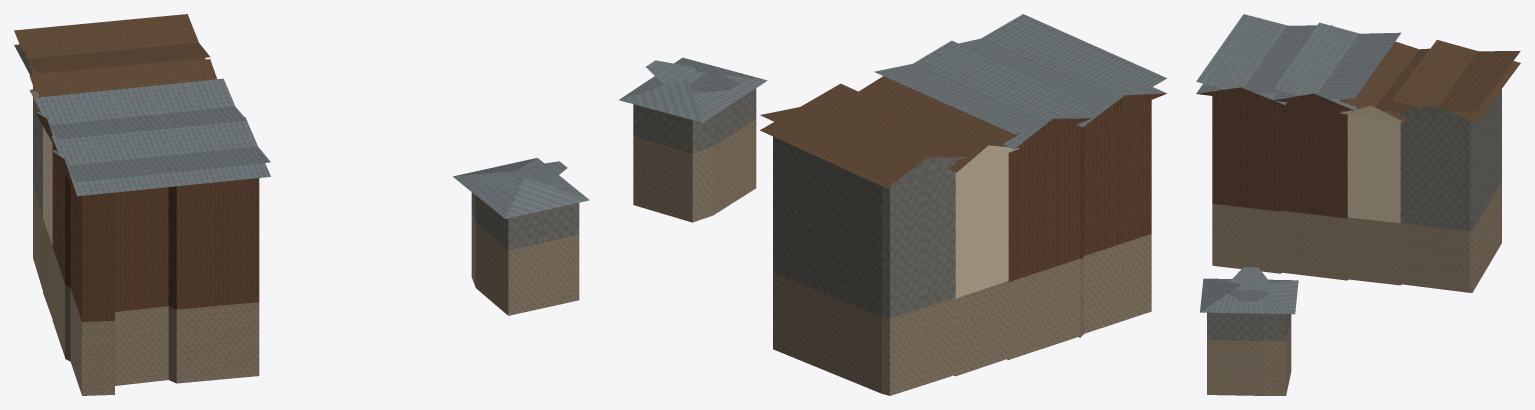
The model's file is bld_c-22_12_547.gltf.
The picture shows the model from 3 angles, left to right: view 1: azimuth 30°, elevation 25°; view 2: azimuth 150°, elevation 25°; view 3: azimuth 270°, elevation 25°; orthographic projection. The views are drawn at different scales.
Visible parts, largest first — view 1: bld_c-22_12_547; view 2: bld_c-22_12_547; view 3: bld_c-22_12_547.
Boxes of the visible parts, <box> form: bld_c-22_12_547: <box>14,14,589,395</box>; bld_c-22_12_547: <box>619,14,1166,395</box>; bld_c-22_12_547: <box>1196,14,1520,395</box>.
Size of the model in its own units: 35.46 by 15.6 by 24.21.
Materials: 9 (9 with a texture image).
